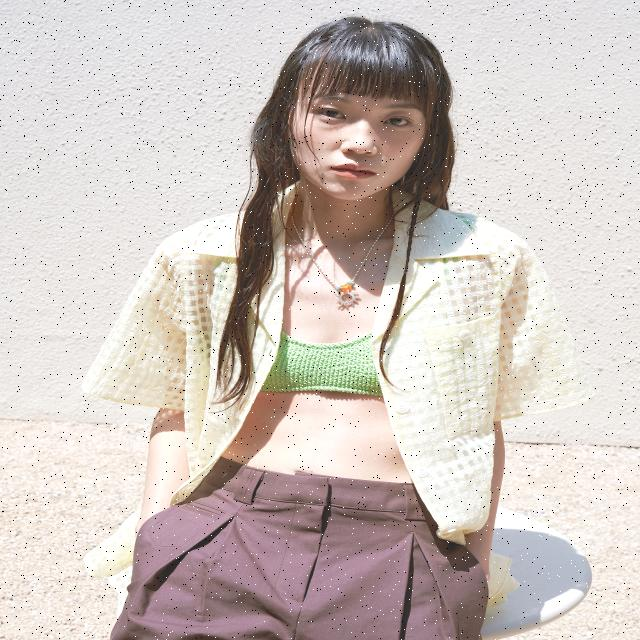dress: (95, 208, 562, 576)
